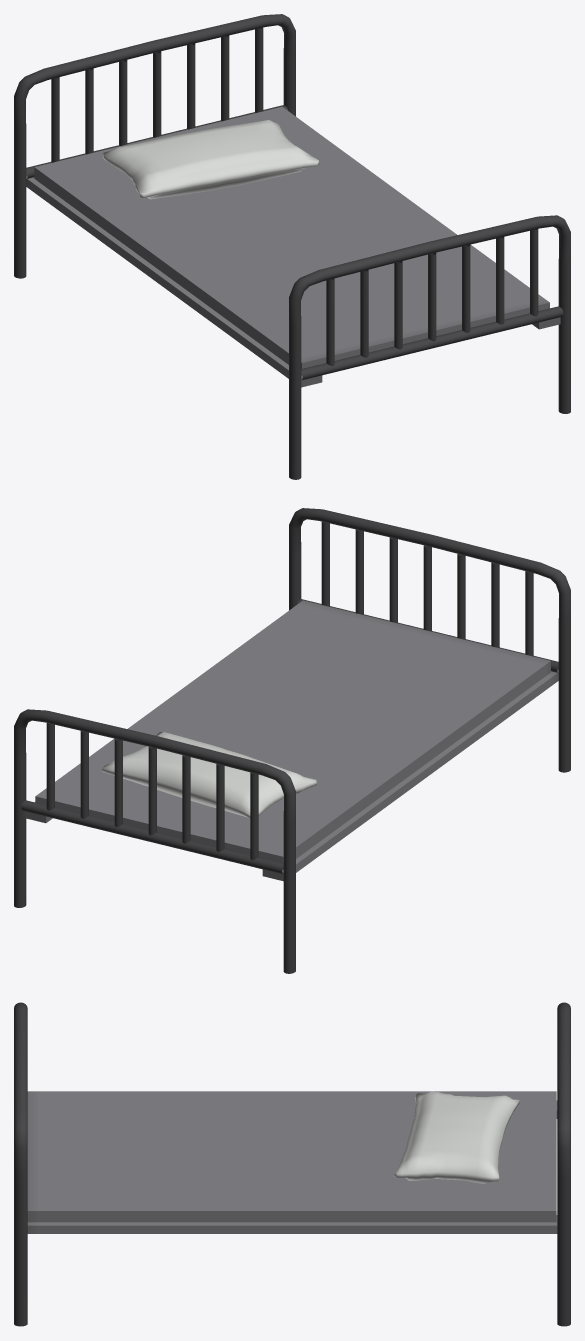
The model's file is Yatak (2).fbx.
3 renders of one model, top to bottom at view 1: azimuth 30°, elevation 25°; view 2: azimuth 150°, elevation 25°; view 3: azimuth 270°, elevation 25°, orthographic.
Visible parts, largest first — view 1: Yatak, Yastık; view 2: Yatak, Yastık; view 3: Yatak, Yastık.
Part boxes in pixels (left/top/right/bottom): Yatak: left=14, top=14, right=570, bottom=479; Yastık: left=103, top=120, right=319, bottom=199; Yatak: left=14, top=508, right=570, bottom=973; Yastık: left=102, top=732, right=316, bottom=817; Yatak: left=14, top=1002, right=570, bottom=1326; Yastık: left=394, top=1091, right=519, bottom=1183.
Bounding box in the file's own units: 1131 × 779 × 1972.
